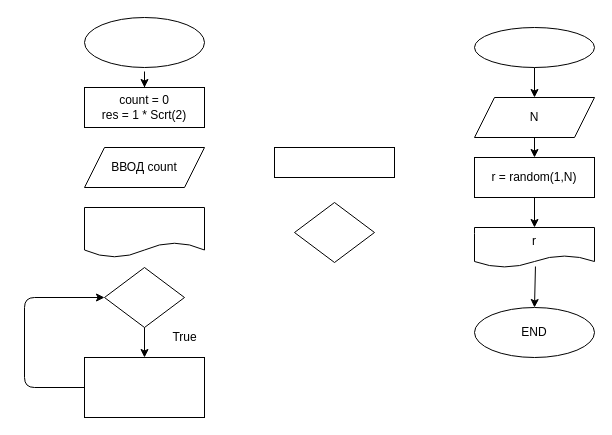
Image size: 612x435. Some labels were removed from this diagram. The shapes that lost their labels are listed below. From the top down, each one's box as (x1, y1, x2, y2) in pixels, then its label:
(84, 16, 204, 68): START END
(474, 26, 594, 68): START
(84, 206, 204, 258): ВЫВОД res
